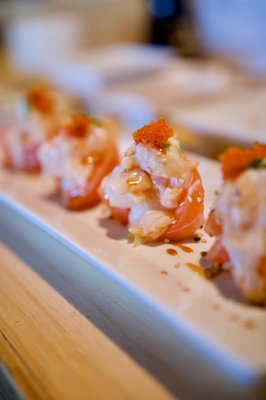salad: (98, 119, 205, 244)
sushi: (35, 113, 122, 211)
